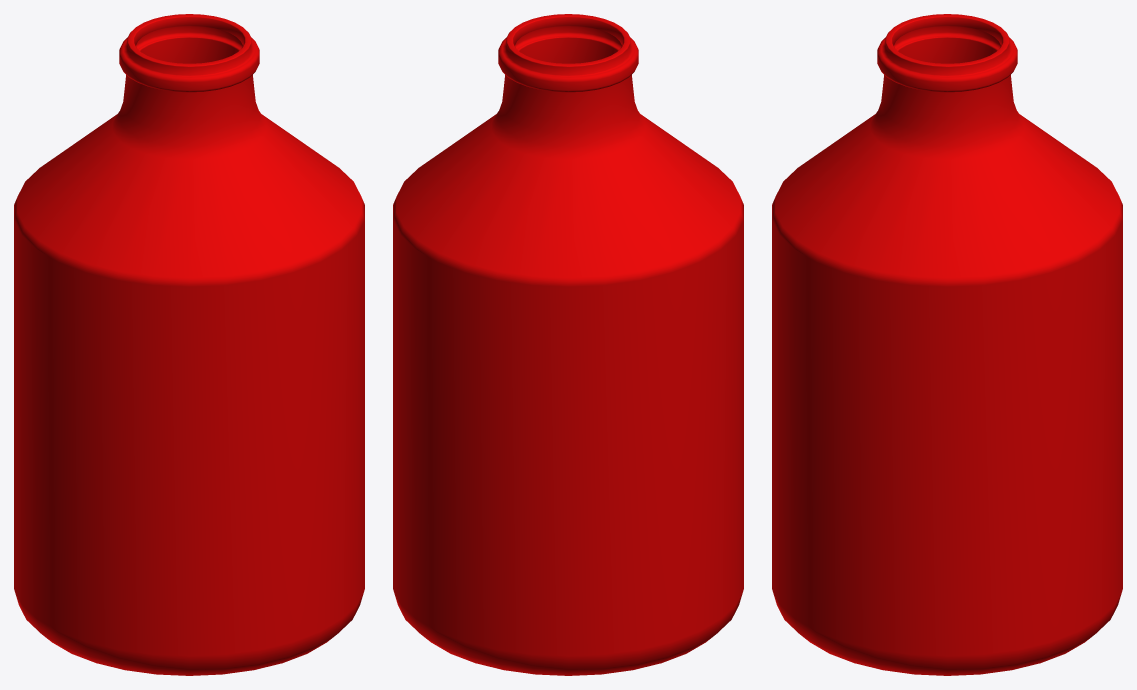
Rendered from Package_2.fbx.
3 views of the same model, side by side, from view 1: azimuth 30°, elevation 25°; view 2: azimuth 150°, elevation 25°; view 3: azimuth 270°, elevation 25° (orthographic).
Parts seen in each view (by area): view 1: L4:polySurface4; view 2: L4:polySurface4; view 3: L4:polySurface4.
Boxes of the visible parts, left/top/right/bottom form: L4:polySurface4: left=14, top=14, right=364, bottom=675; L4:polySurface4: left=393, top=14, right=743, bottom=675; L4:polySurface4: left=772, top=14, right=1122, bottom=675.
Size of the model in its own units: 24.7 by 44.3 by 24.57.
